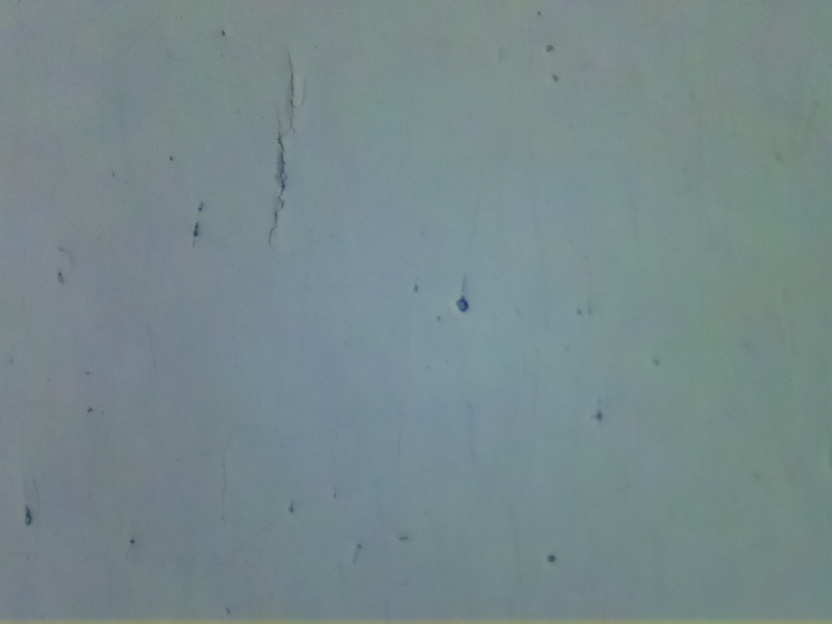crack: (261, 114, 291, 247), (283, 48, 302, 118)
